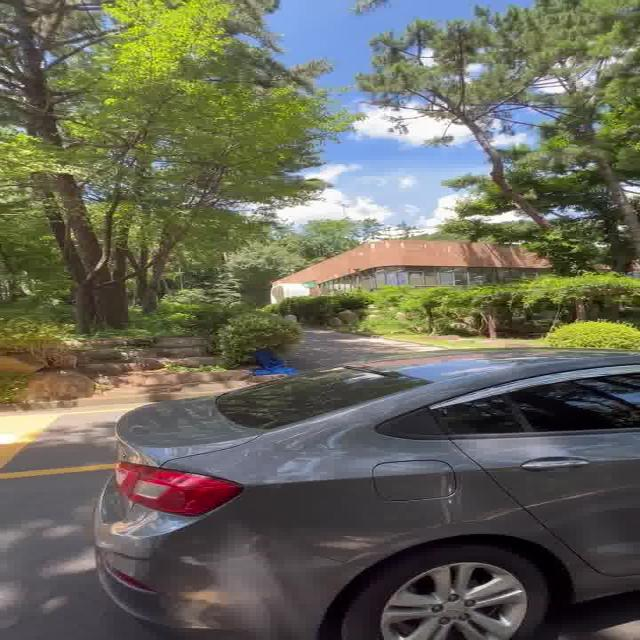building: (279, 224, 557, 298)
